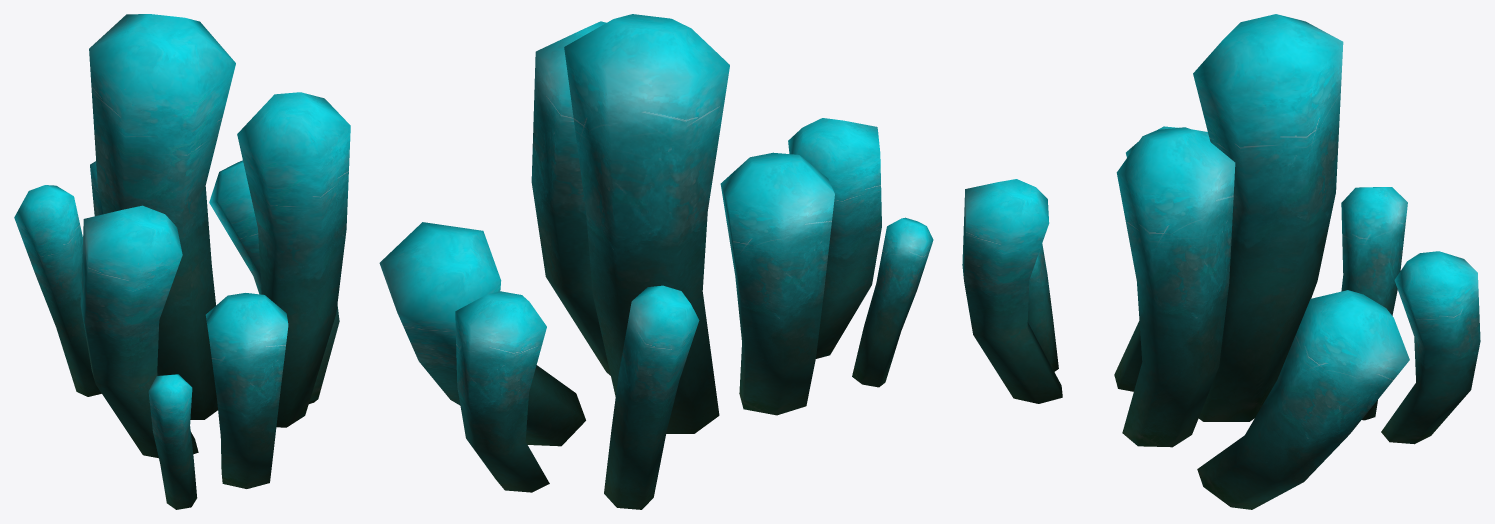
Rendered from CoralGroup2.fbx.
3 views of the same model, side by side, from view 1: azimuth 30°, elevation 25°; view 2: azimuth 150°, elevation 25°; view 3: azimuth 270°, elevation 25° (orthographic). The views are drawn at different scales.
Parts seen in each view (by area): view 1: Cylinder.003; view 2: Cylinder.003; view 3: Cylinder.003.
Part boxes in pixels (x1,y1,x2,y2): Cylinder.003: (14, 14, 350, 509); Cylinder.003: (379, 14, 933, 509); Cylinder.003: (962, 14, 1480, 509).
Bounding box in the file's own units: 136 × 168 × 184.
